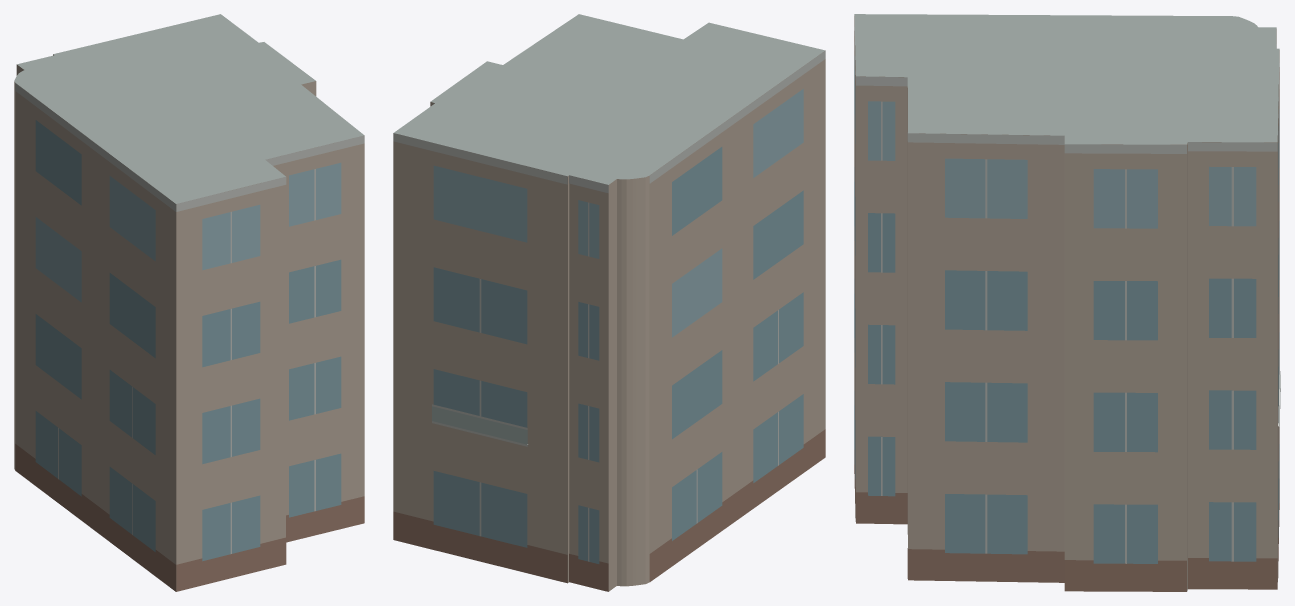
Rendered from survey-upis-32939474.glb.
3 renders of one model, left to right at view 1: azimuth 30°, elevation 25°; view 2: azimuth 150°, elevation 25°; view 3: azimuth 270°, elevation 25°, orthographic. The views are drawn at different scales.
Visible parts, largest first — view 1: survey-upis-32939474.tmp; view 2: survey-upis-32939474.tmp; view 3: survey-upis-32939474.tmp.
Boxes of the visible parts, <box> form: survey-upis-32939474.tmp: <box>14,14,364,591</box>; survey-upis-32939474.tmp: <box>393,14,825,591</box>; survey-upis-32939474.tmp: <box>854,14,1280,591</box>.
Size of the model in its own units: 7.41 by 11.8 by 10.2.
